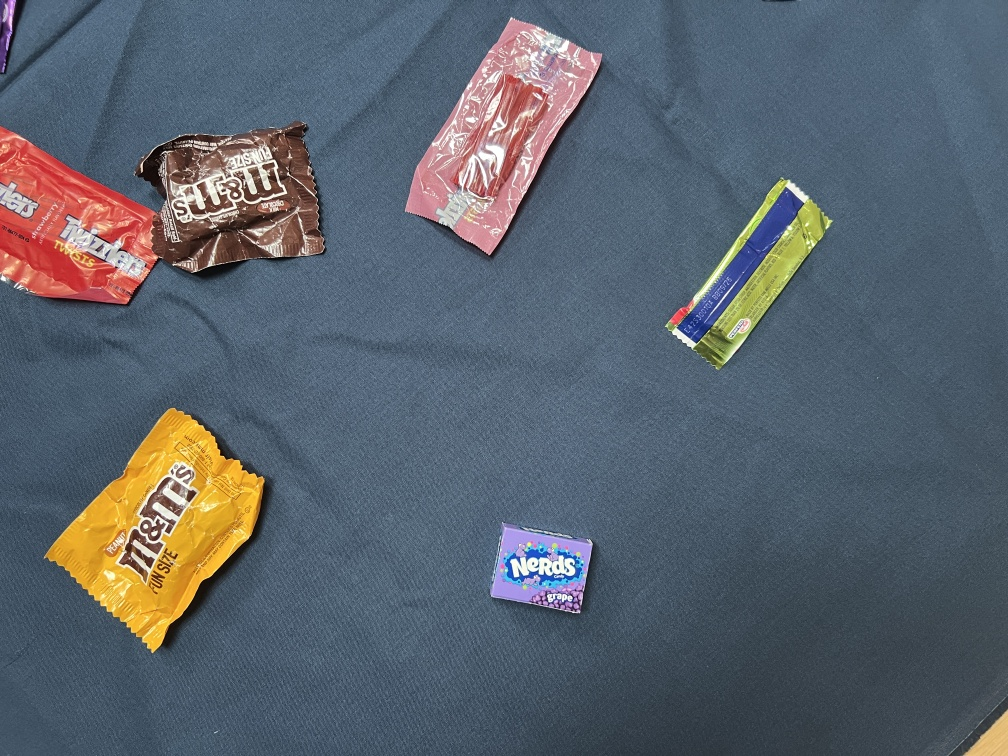MMs_peanut: (129, 108, 353, 276)
airheads: (401, 12, 609, 263), (674, 159, 839, 387)
nerds: (38, 398, 275, 655), (486, 509, 607, 618)
twizzlers: (0, 126, 167, 317)
